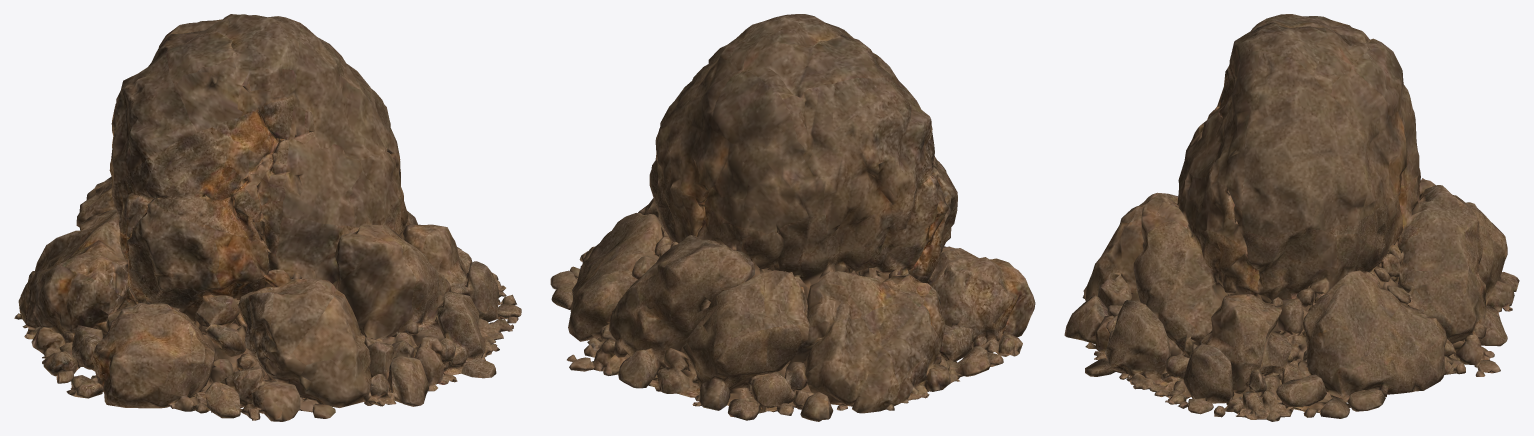
The model's file is mining-rock.glb.
The picture shows the model from 3 angles, left to right: view 1: azimuth 30°, elevation 25°; view 2: azimuth 150°, elevation 25°; view 3: azimuth 270°, elevation 25°; orthographic projection. The views are drawn at different scales.
Visible parts, largest first — view 1: Mesh_0; view 2: Mesh_0; view 3: Mesh_0.
Boxes of the visible parts, x1=… form: Mesh_0: x1=14, y1=14, x2=521, y2=421; Mesh_0: x1=550, y1=14, x2=1035, y2=421; Mesh_0: x1=1064, y1=14, x2=1519, y2=421.
Size of the model in its own units: 1.89 by 1.26 by 1.8.
Materials: 1 (1 with a texture image).
